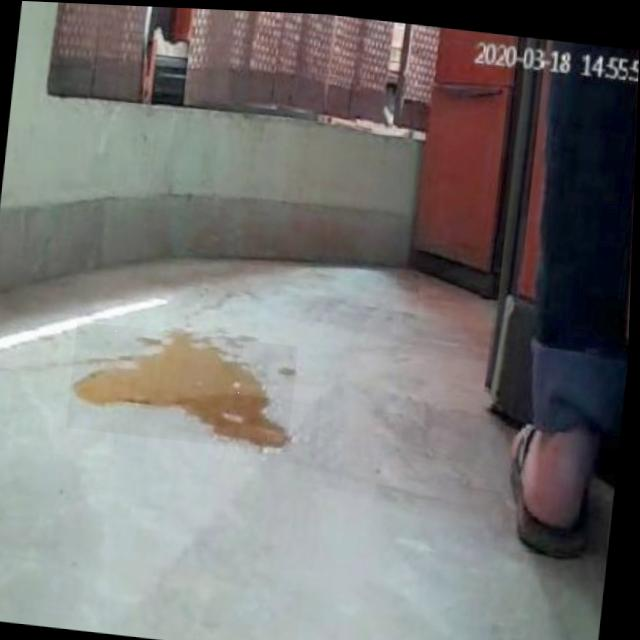spillage: (72, 332, 291, 447)
